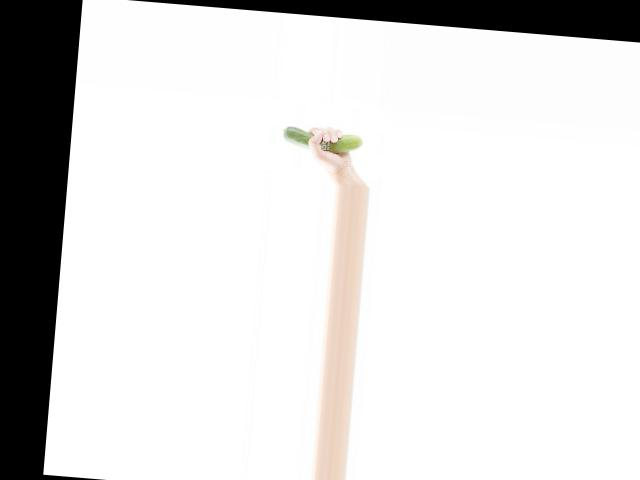cucumber: (282, 124, 362, 155)
